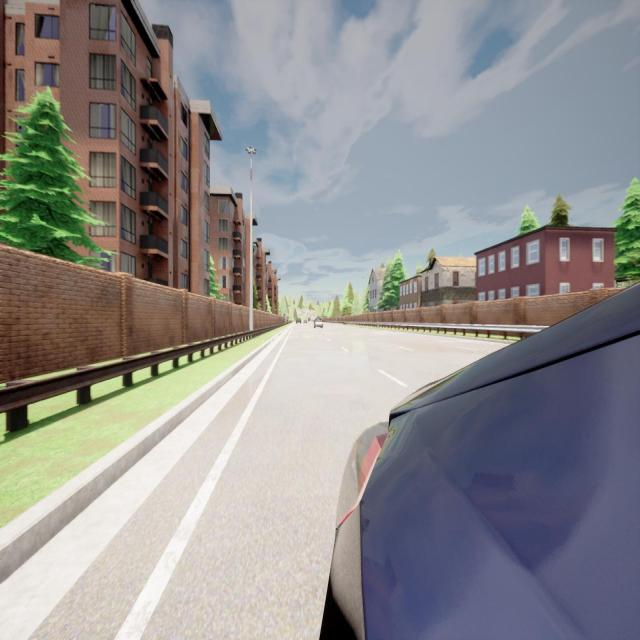Vehicle: (323, 284, 640, 638), (314, 318, 324, 329), (295, 318, 302, 324), (303, 319, 308, 323), (309, 318, 311, 322)
